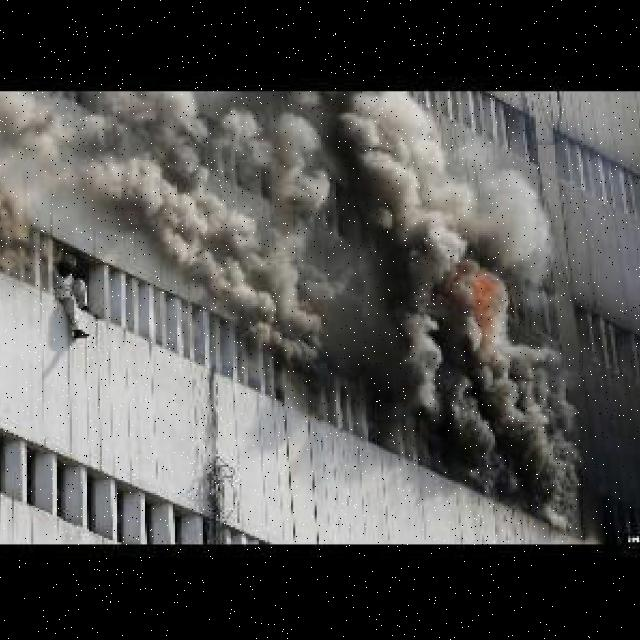smoke: (89, 89, 583, 360), (396, 366, 583, 527), (0, 92, 57, 266)
